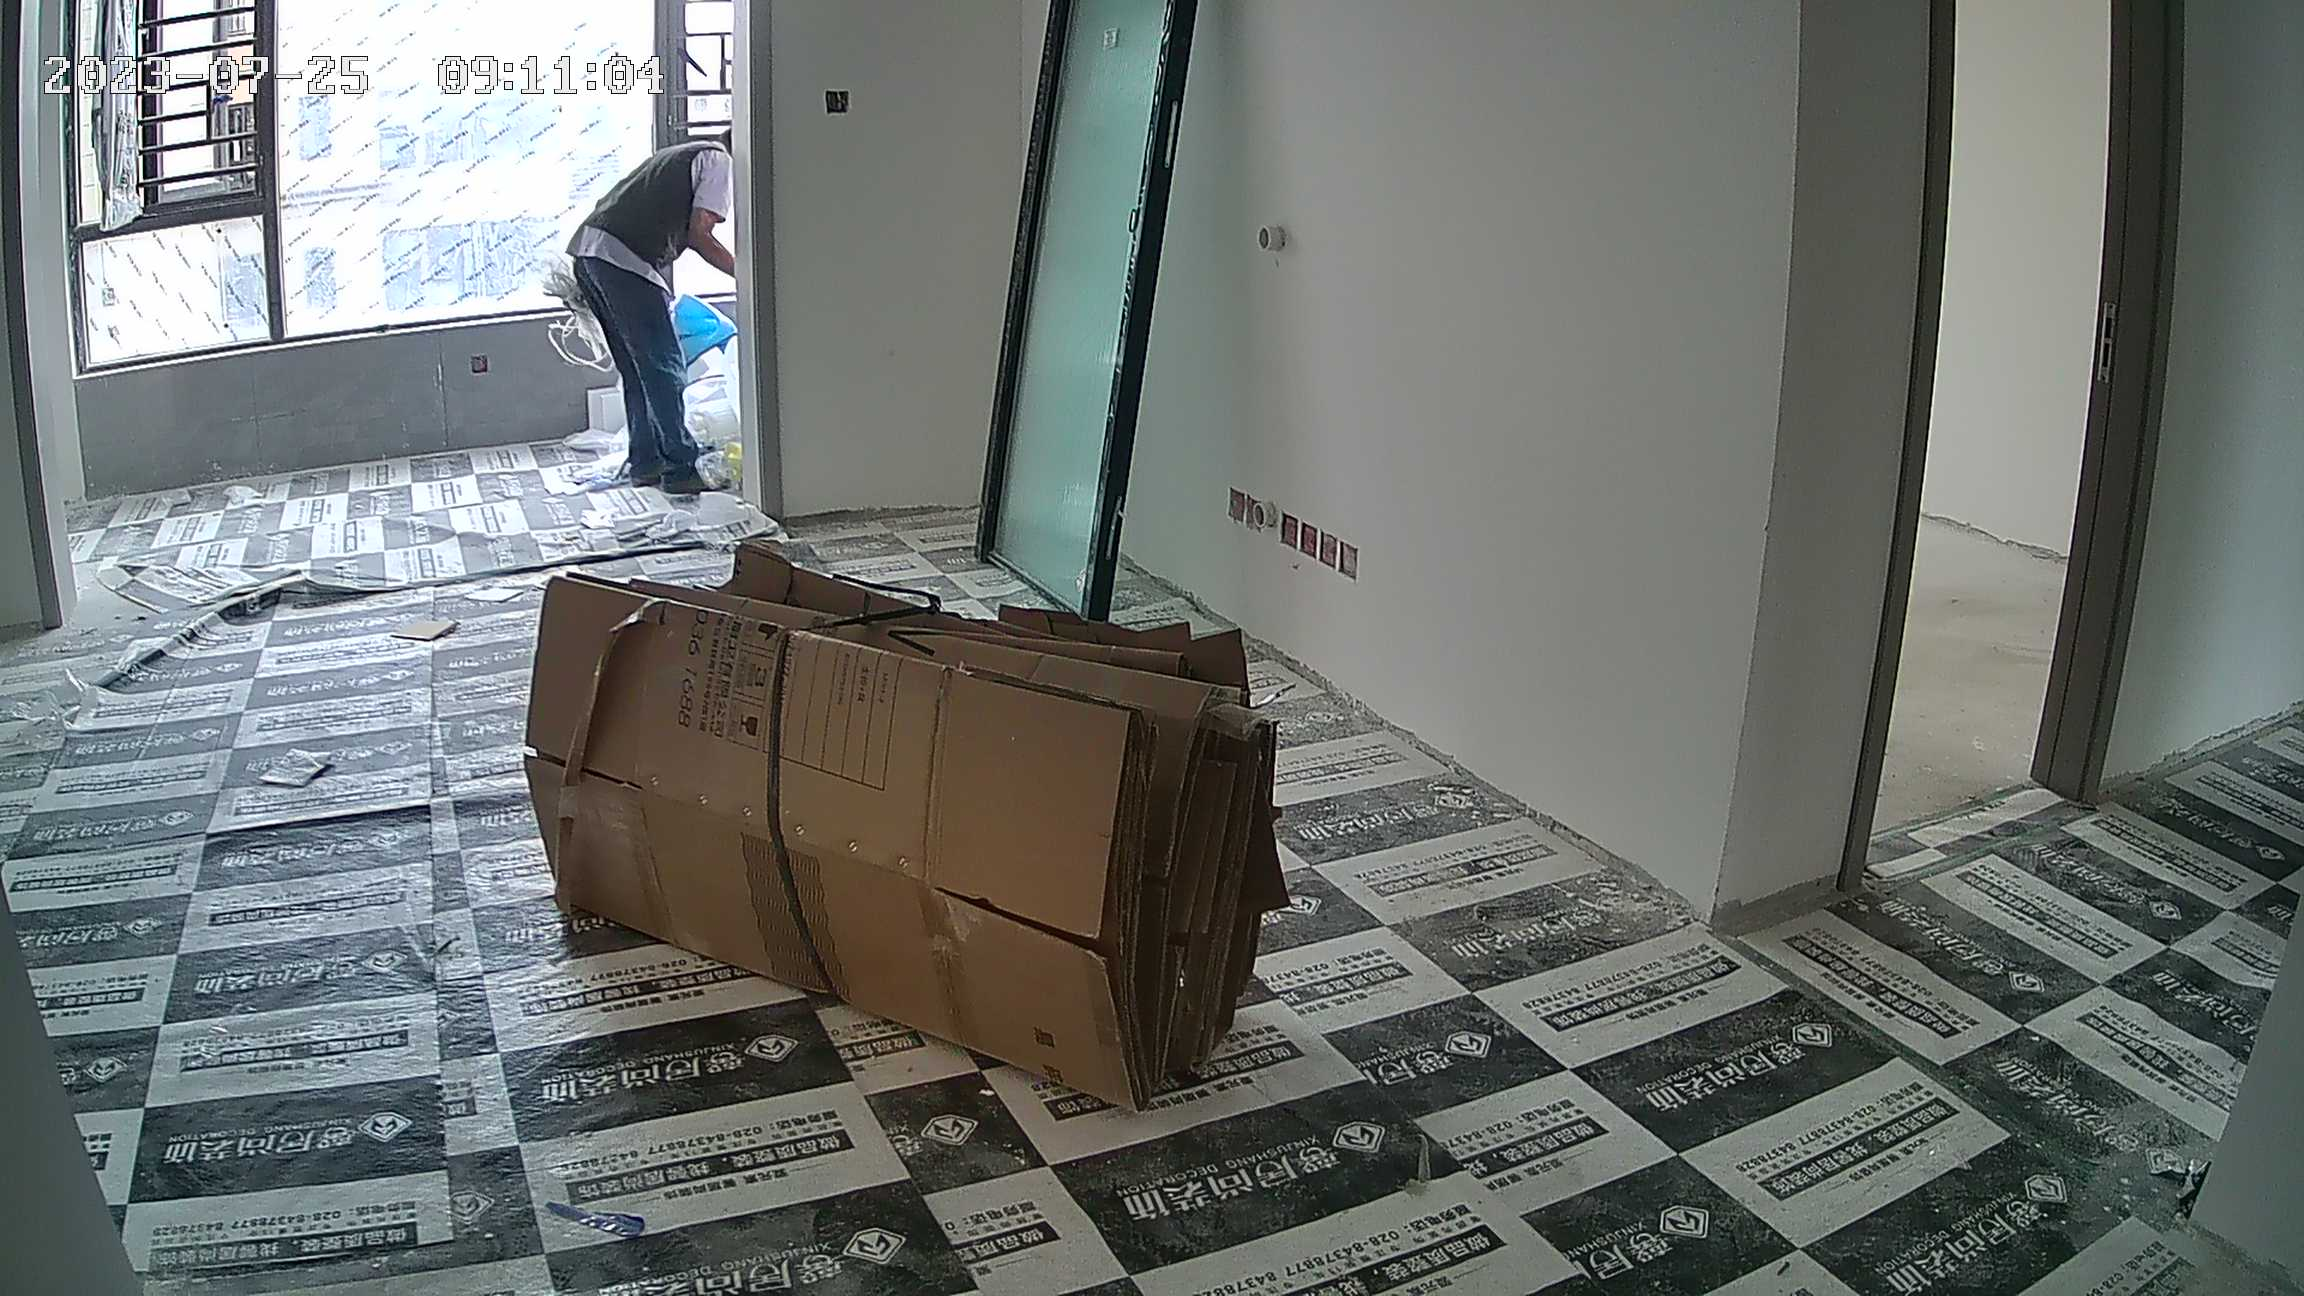people: (566, 123, 739, 495)
window: (76, 3, 738, 379)
